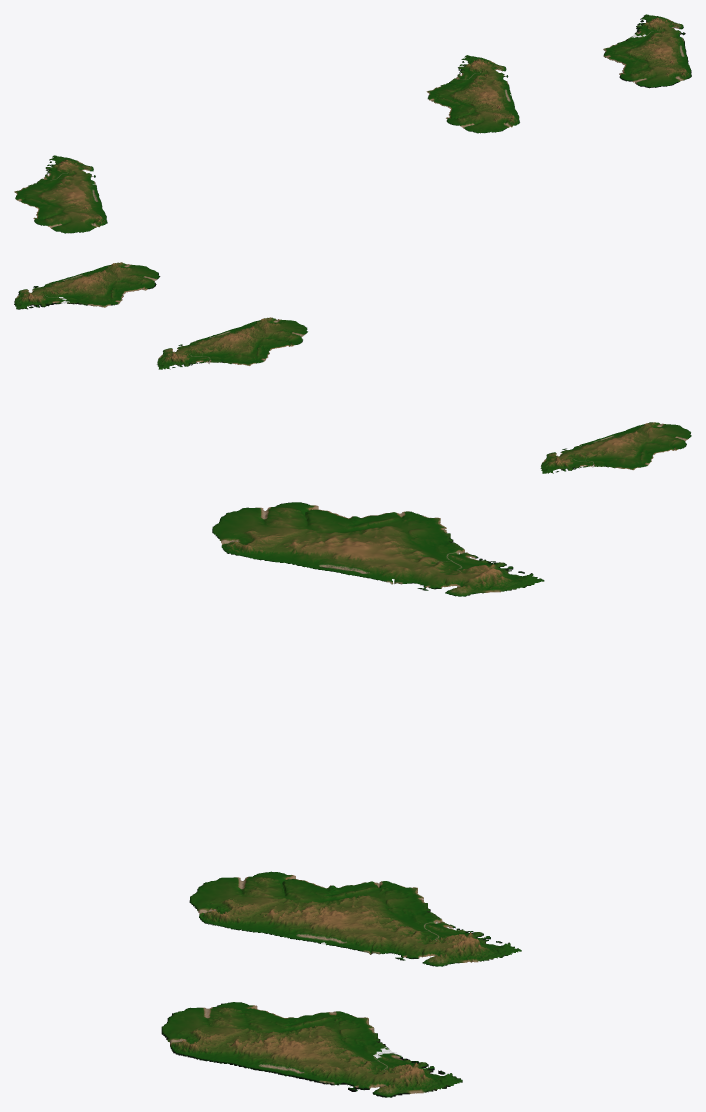
The model's file is ps_madagascar_22.gltf.
3 renders of one model, top to bottom at view 1: azimuth 30°, elevation 25°; view 2: azimuth 150°, elevation 25°; view 3: azimuth 270°, elevation 25°, orthographic. The views are drawn at different scales.
Parts seen in each view (by area): view 1: map_no_edges; view 2: map_no_edges; view 3: map_no_edges.
Part boxes in pixels (bbox=[...]): map_no_edges: bbox=[14, 14, 691, 233]; map_no_edges: bbox=[14, 262, 691, 473]; map_no_edges: bbox=[161, 502, 544, 1097].
Bounding box in the file's own units: 131 × 4.51 × 33.82.
Materials: 2 (1 with a texture image).
